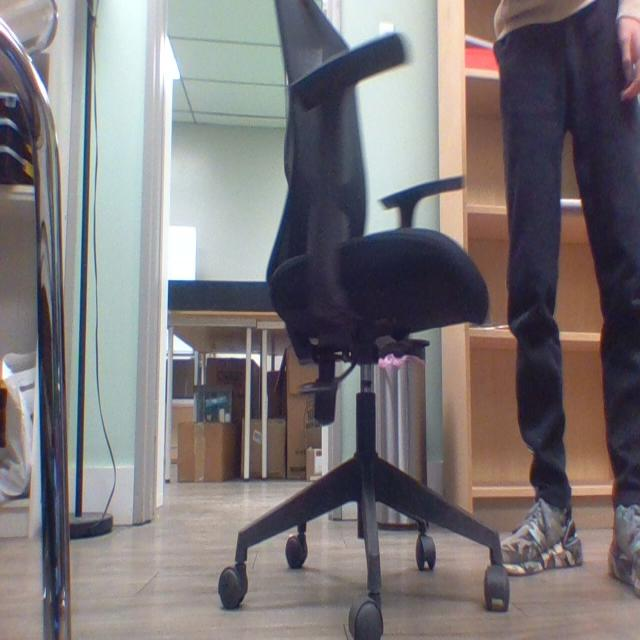black-chair: (220, 0, 510, 639)
